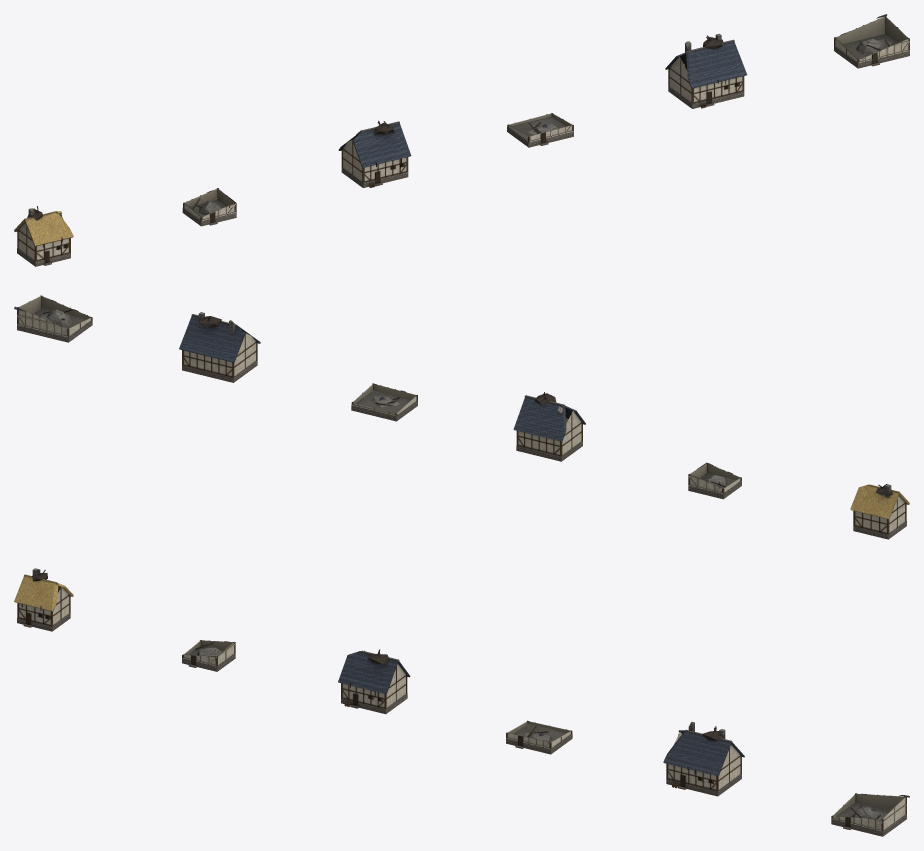
The model's file is kingdoms-houses-damage.glb.
The picture shows the model from 3 angles, top to bottom: view 1: azimuth 30°, elevation 25°; view 2: azimuth 150°, elevation 25°; view 3: azimuth 330°, elevation 25°; orthographic projection.
Visible parts, largest first — view 1: LOD0.004, LOD0.002, LOD0.005, LOD0, LOD0.003, LOD0.001; view 2: LOD0.004, LOD0.002, LOD0, LOD0.005, LOD0.003, LOD0.001; view 3: LOD0.004, LOD0.002, LOD0, LOD0.005, LOD0.003, LOD0.001.
Boxes of the visible parts, x1,y1,x2,y2 form: LOD0.004: (665,33,747,108); LOD0.002: (338,120,411,187); LOD0.005: (834,14,909,68); LOD0: (14,206,73,266); LOD0.003: (507,113,573,147); LOD0.001: (182,188,236,226); LOD0.004: (179,312,260,382); LOD0.002: (513,392,585,461); LOD0: (850,484,909,539); LOD0.005: (14,295,92,342); LOD0.003: (351,383,417,421); LOD0.001: (688,462,741,499); LOD0.004: (663,721,744,796); LOD0.002: (338,649,410,714); LOD0: (14,568,73,631); LOD0.005: (831,793,909,836); LOD0.003: (506,720,572,754); LOD0.001: (182,640,235,671).
Size of what is drawn, in the model's own units: 15.85 by 0.931 by 0.8654.
Materials: 1 (1 with a texture image).
